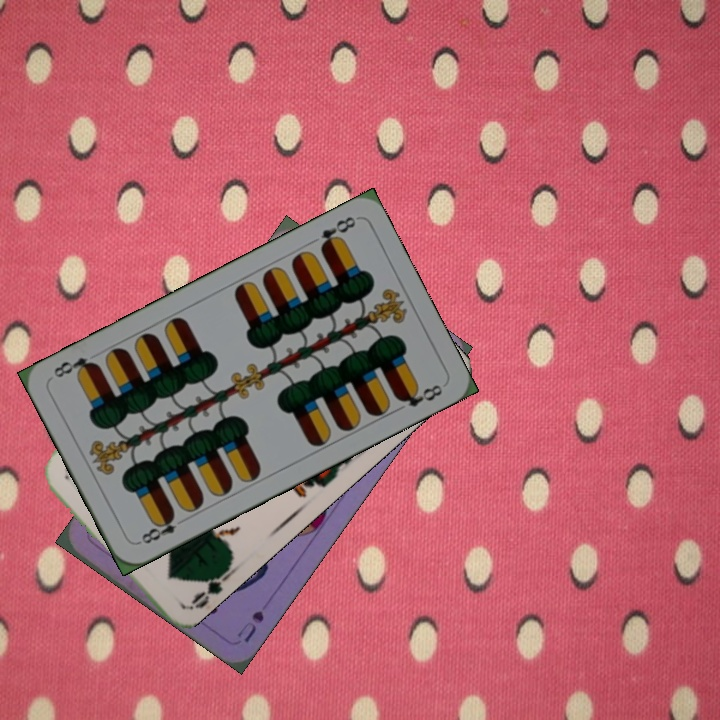E8: (134, 509, 189, 547), (316, 212, 359, 253)
GO: (187, 561, 236, 611)
SU: (232, 606, 267, 646)
